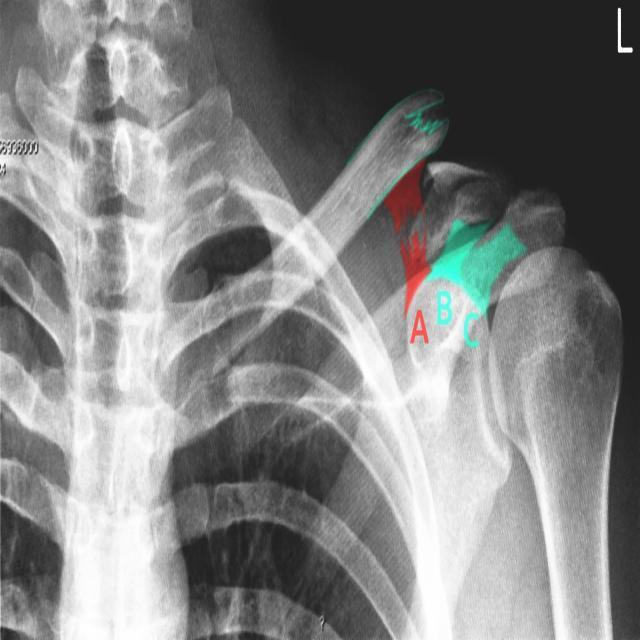Comminuted Fracture: (380, 72, 531, 304)
